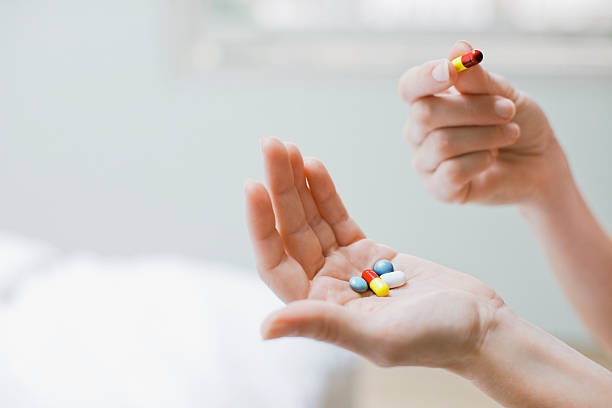pills: (452, 49, 484, 73), (363, 265, 387, 296), (373, 255, 400, 275), (348, 273, 367, 291)
